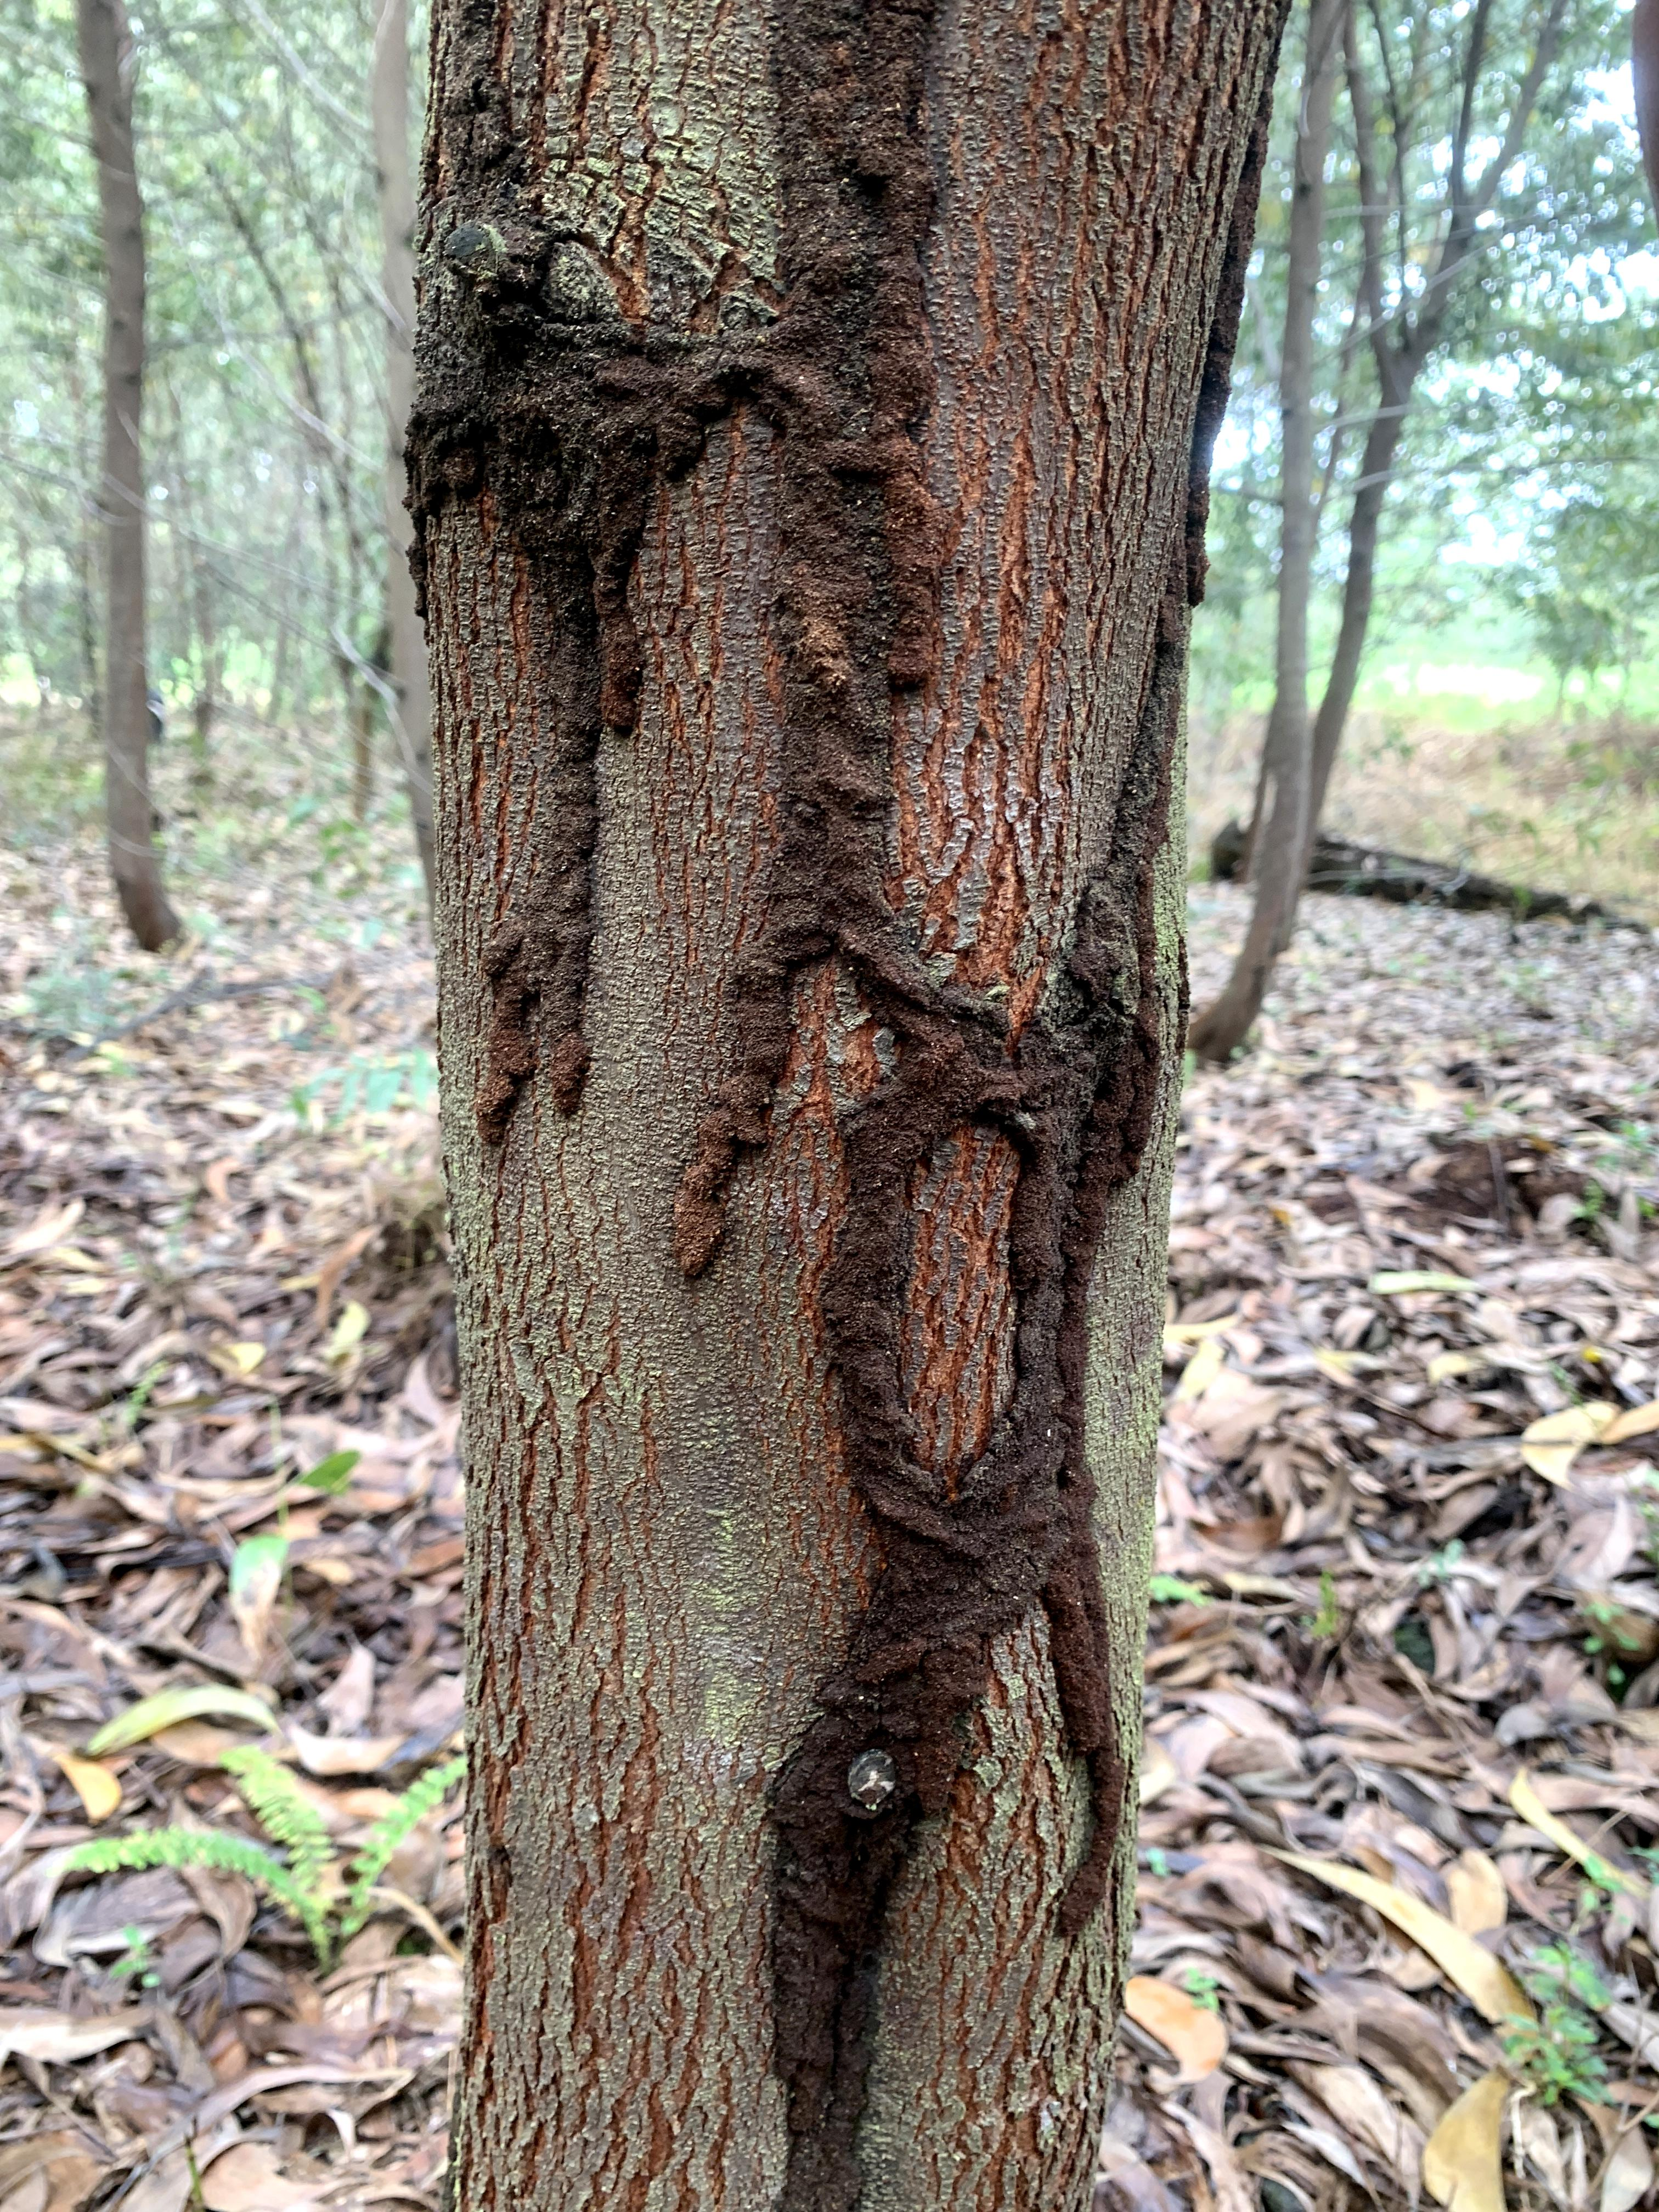Termite - Nest: (681, 0, 1218, 2212), (375, 0, 697, 1076)
